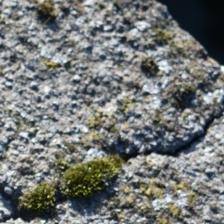Crack: (129, 105, 217, 166)
